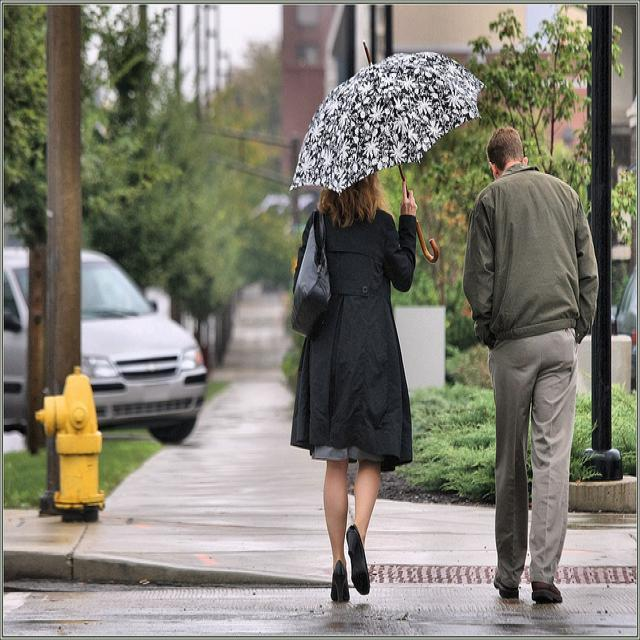fire_hydrant: (35, 365, 106, 521)
